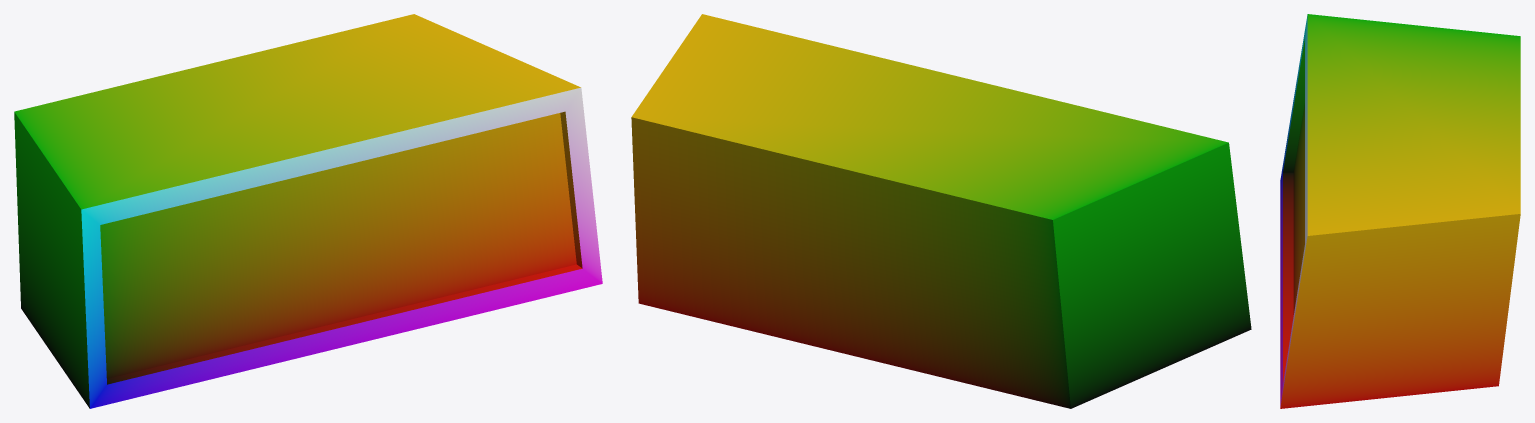
Rendered from ConeBlock-n13-Borders.fbx.
The picture shows the model from 3 angles, left to right: view 1: azimuth 30°, elevation 25°; view 2: azimuth 150°, elevation 25°; view 3: azimuth 270°, elevation 25°; orthographic projection. The views are drawn at different scales.
Visible parts, largest first — view 1: Cone; view 2: Cone; view 3: Cone.
Boxes of the visible parts, x1,y1,x2,y2 form: Cone: (14,14,602,408); Cone: (631,14,1251,408); Cone: (1280,14,1520,408).
Size of the model in its own units: 718 by 250 by 320.
